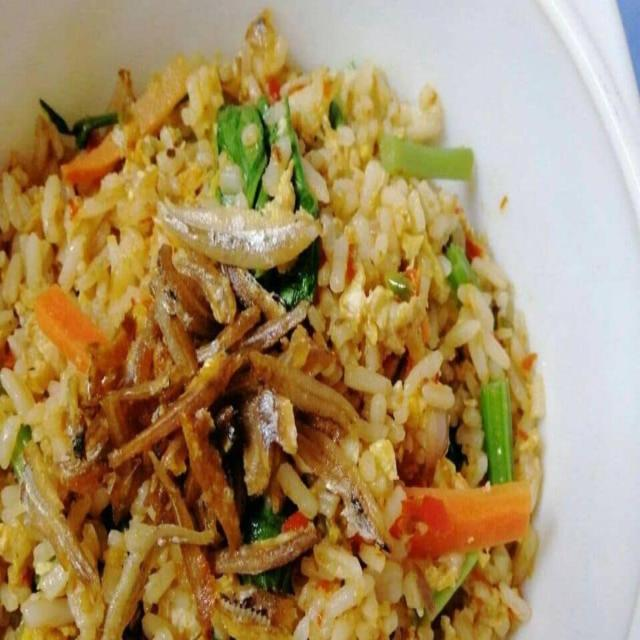Nasi Goreng: (2, 8, 545, 638)
